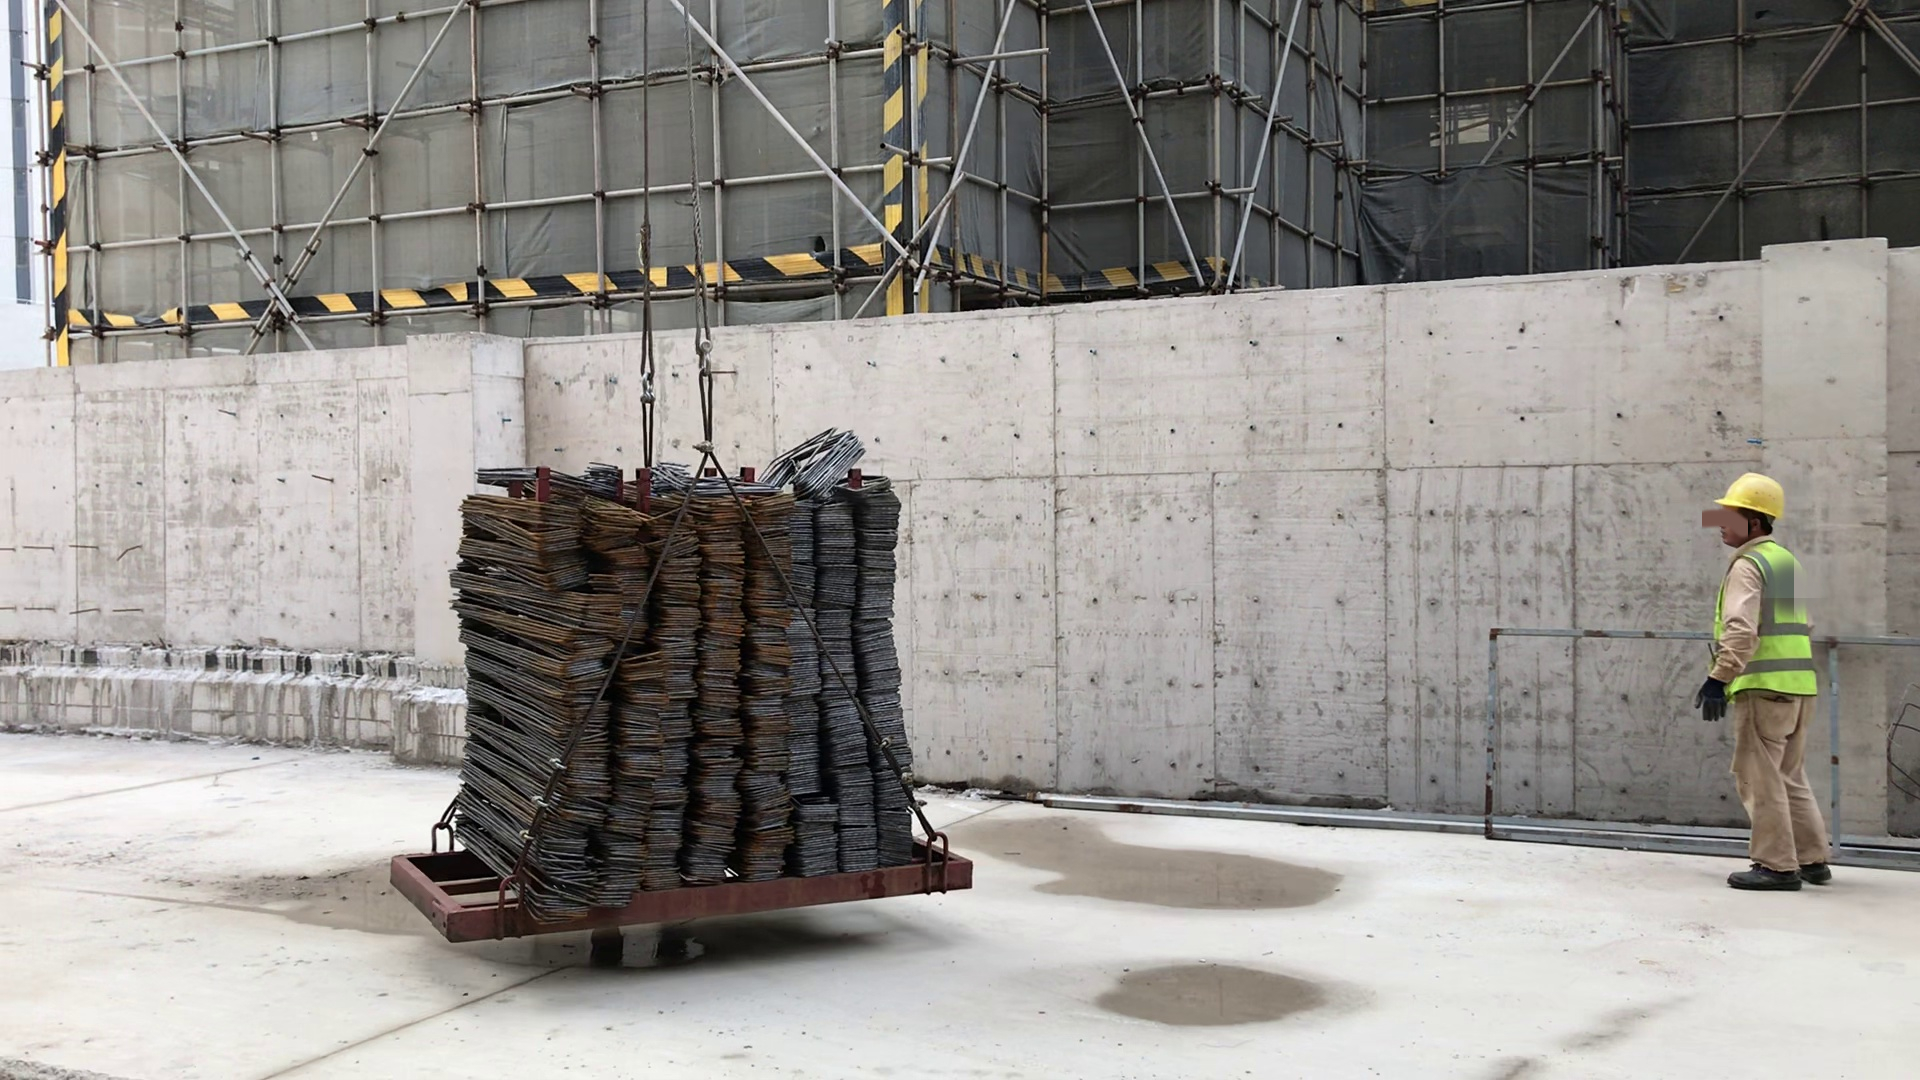helmet: (1717, 457, 1785, 528)
person: (1711, 439, 1849, 909)
vest: (1715, 552, 1827, 692)
